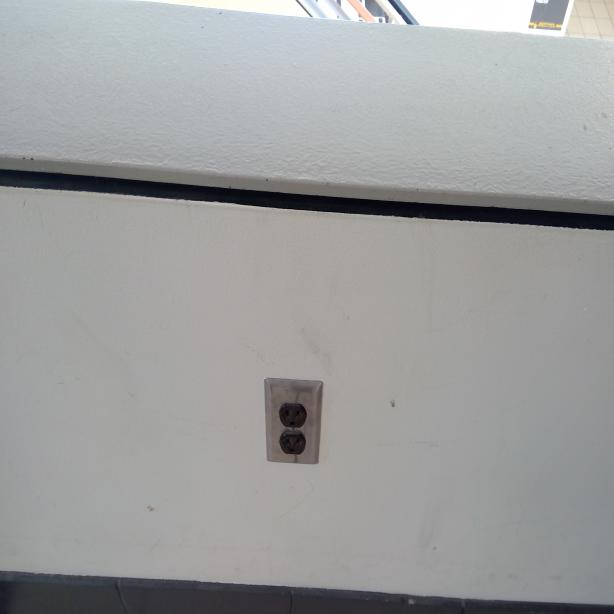typeb: (281, 395, 304, 430), (283, 437, 305, 458)
